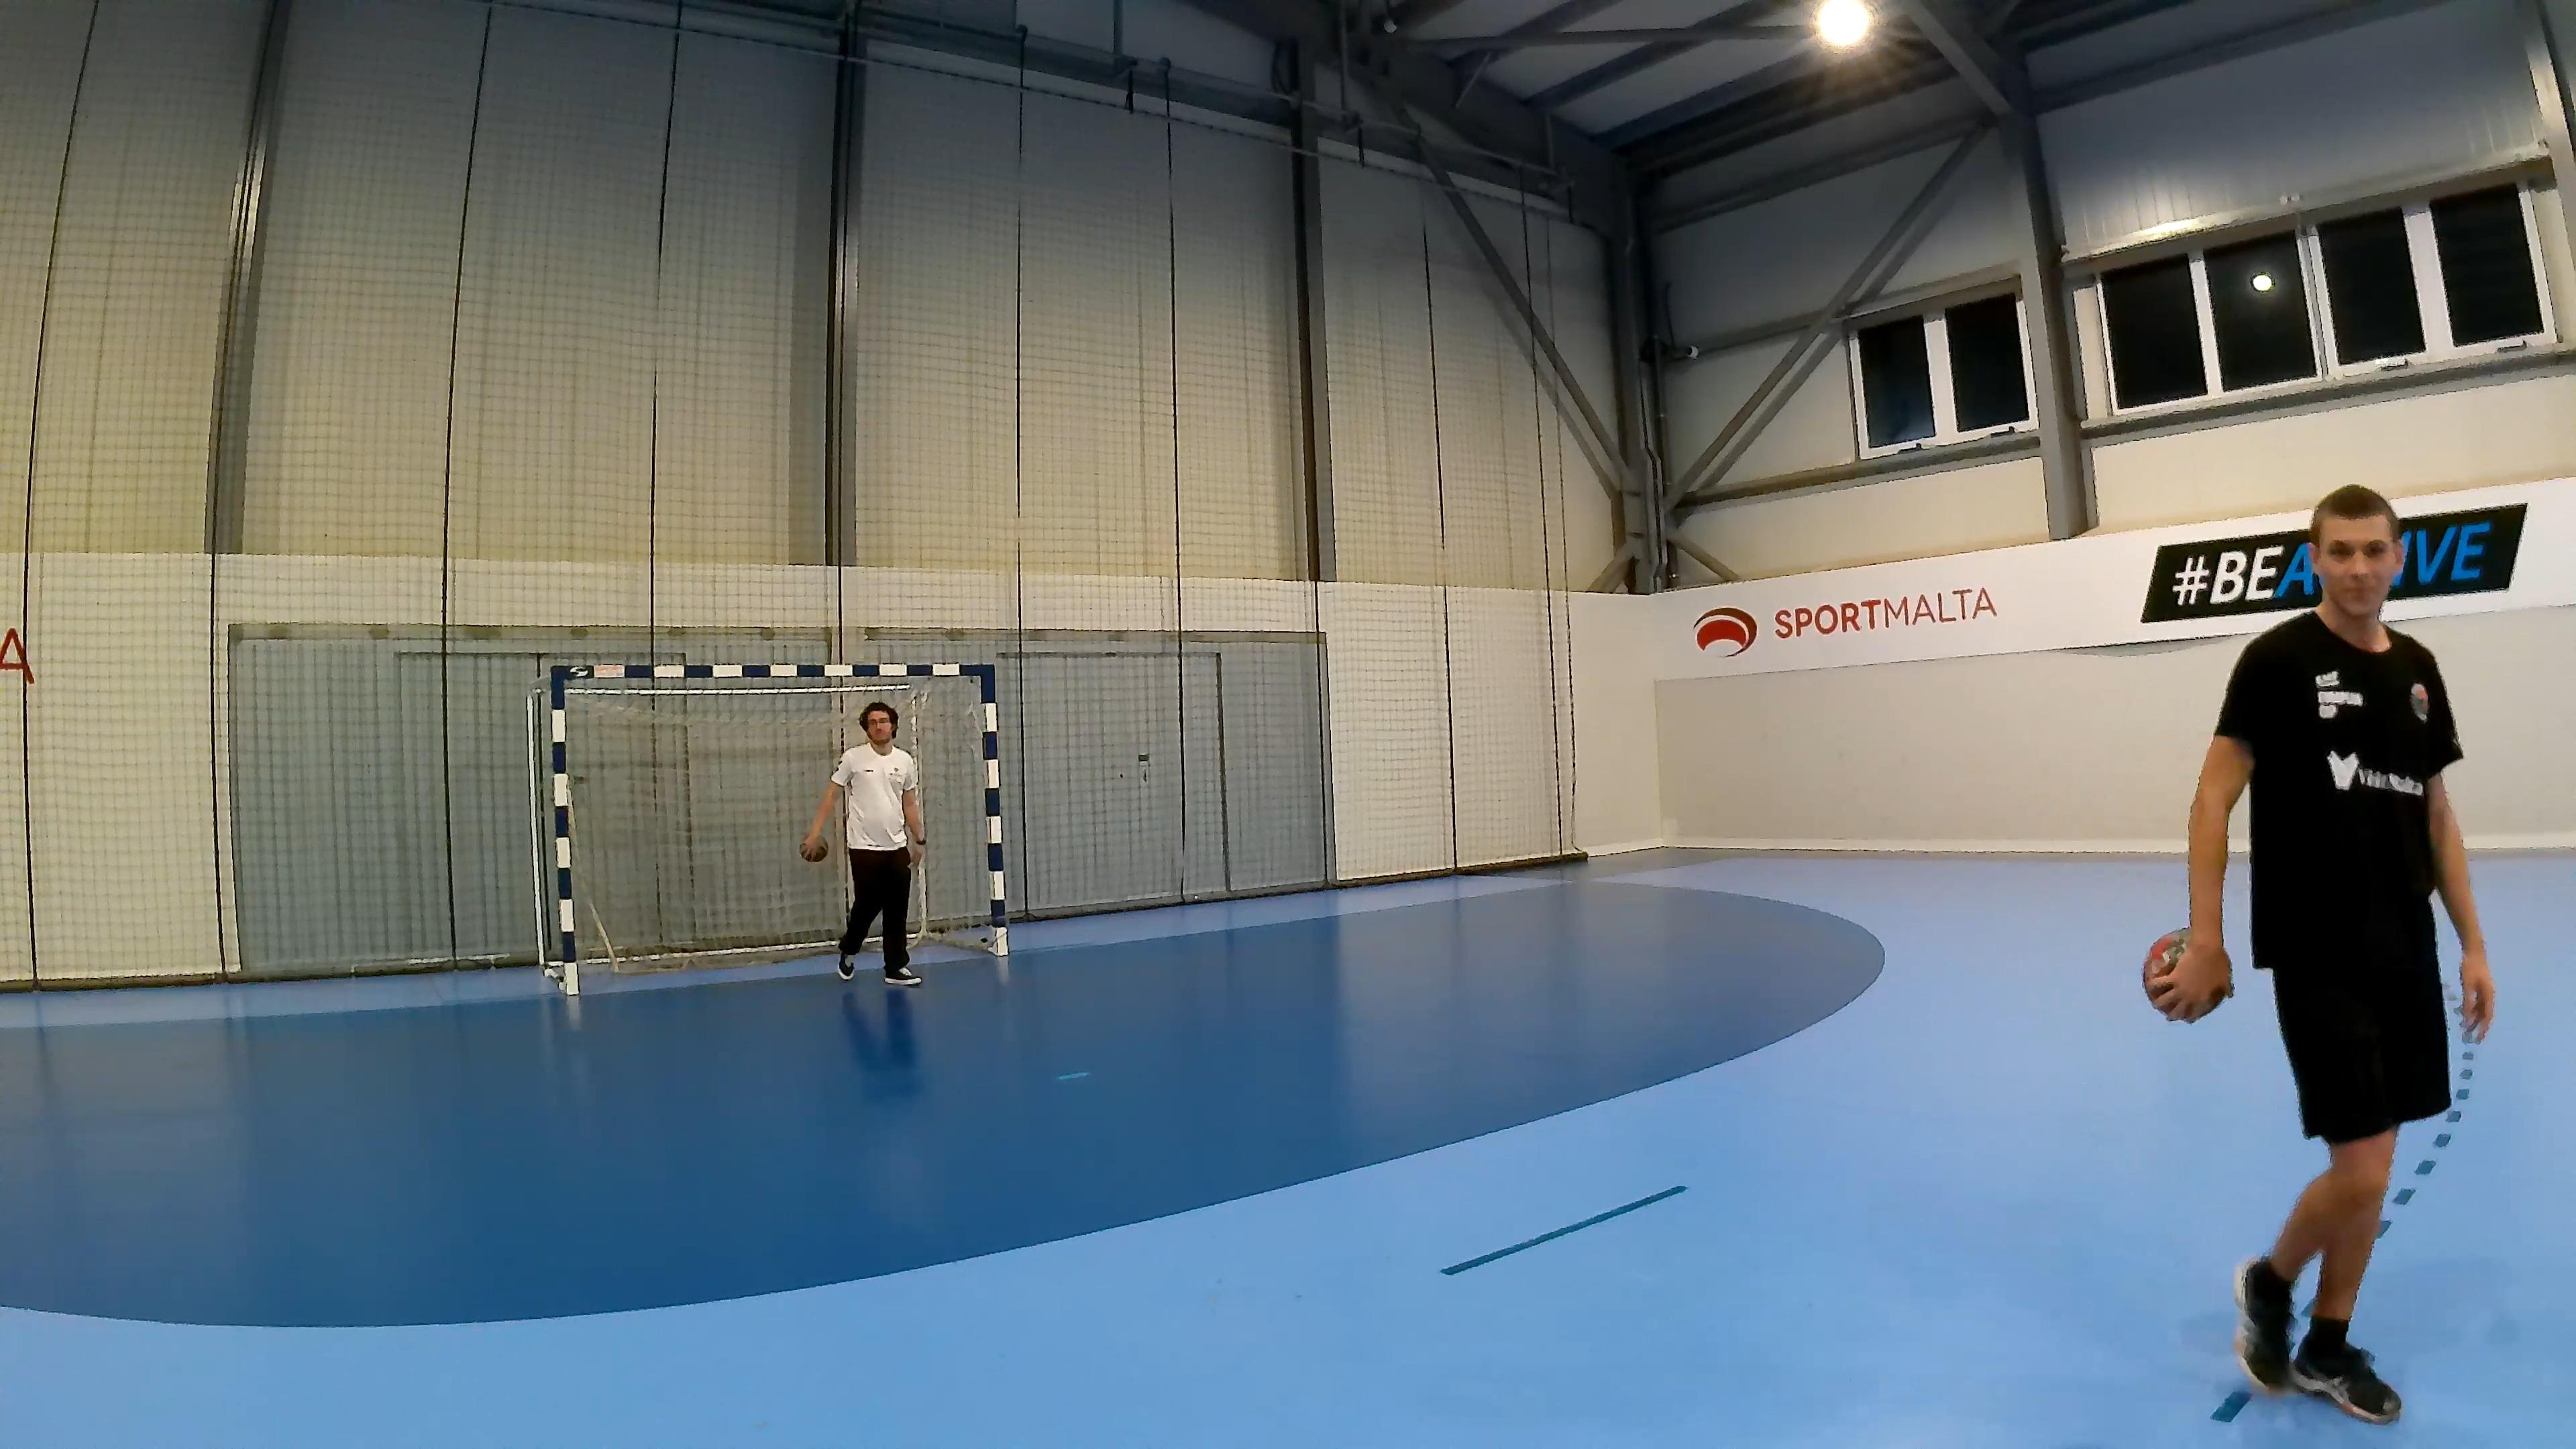handball: (2141, 925, 2236, 1033), (798, 832, 830, 865)
